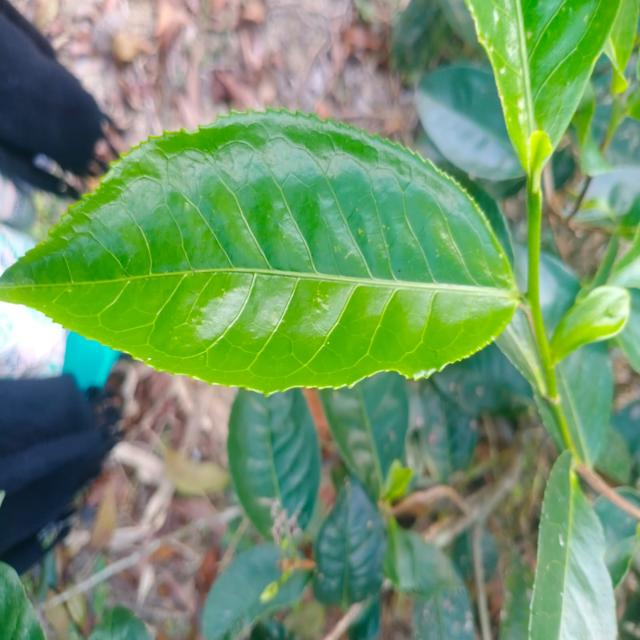Category D 7+ days, Not for Tea: (0, 106, 525, 434)
